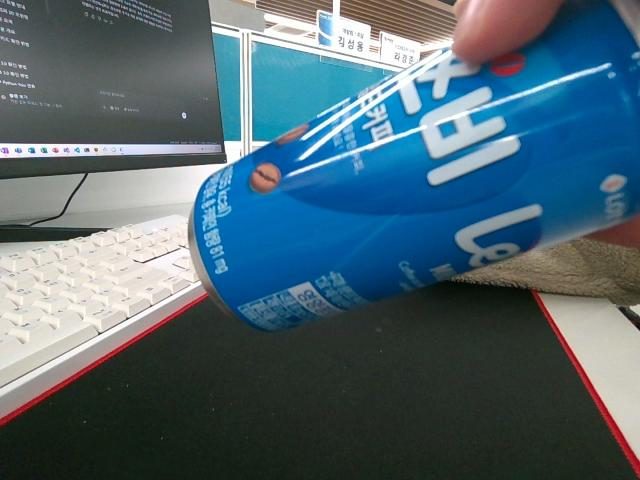letsbe: (187, 0, 639, 332)
